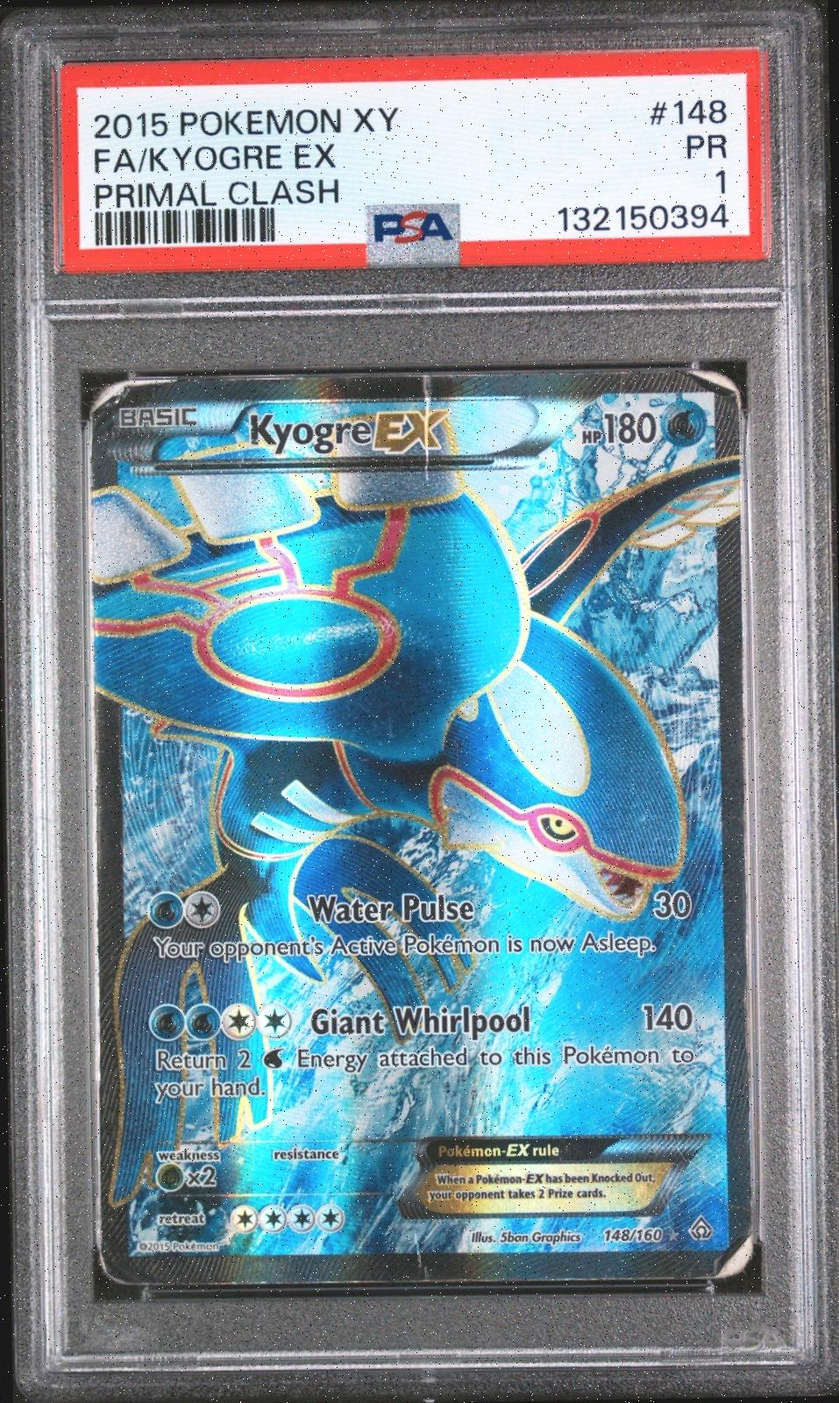card-2UtV: (82, 368, 758, 1287)
